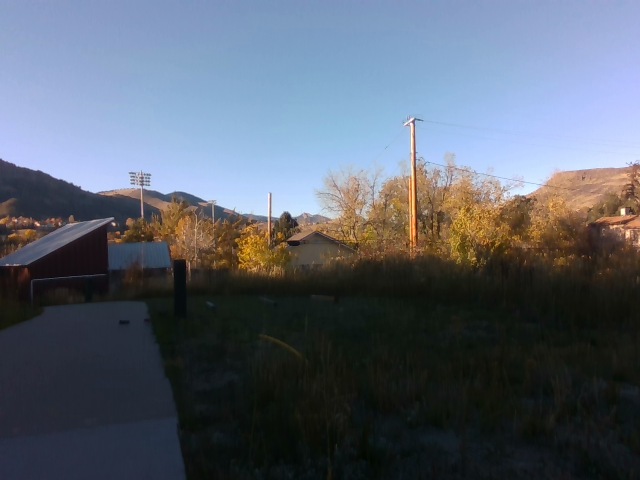dunnage: (196, 285, 344, 317)
